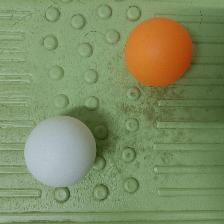WhiteBall: (24, 115, 96, 186)
YellowBall: (123, 17, 192, 86)
